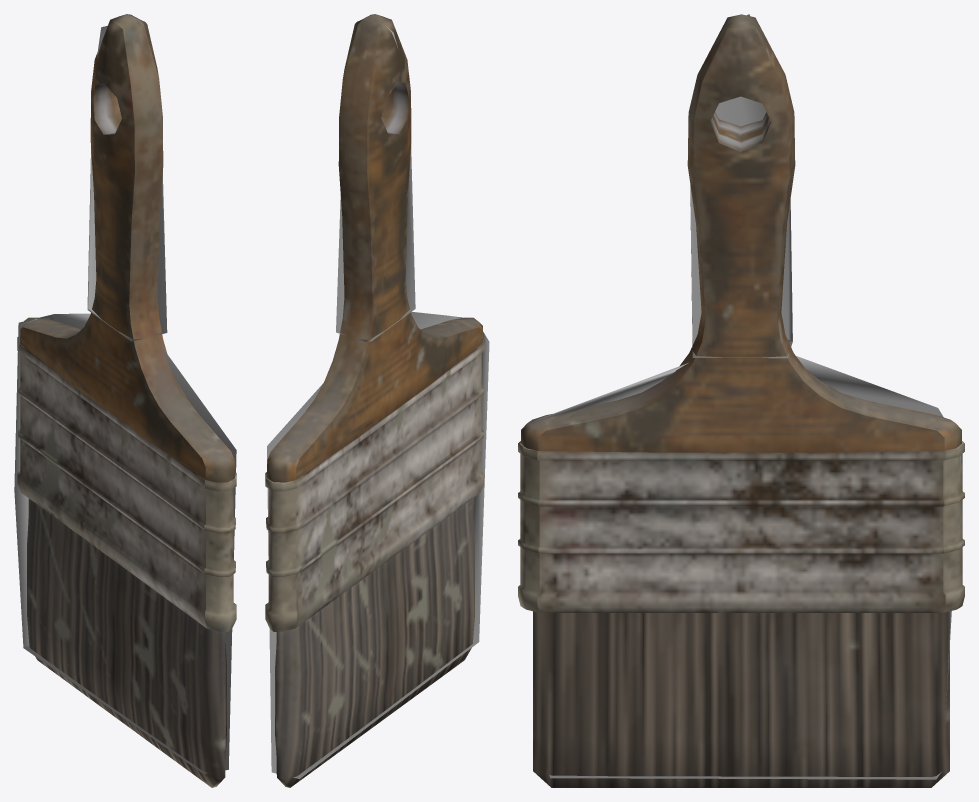
File: SM_Brush02.gltf
The picture shows the model from 3 angles, left to right: view 1: azimuth 30°, elevation 25°; view 2: azimuth 150°, elevation 25°; view 3: azimuth 270°, elevation 25°; orthographic projection. The views are drawn at different scales.
Visible parts, largest first — view 1: SM_Brush02_LOD0, SM_Brush02_ConvexHulls; view 2: SM_Brush02_LOD0, SM_Brush02_ConvexHulls; view 3: SM_Brush02_LOD0, SM_Brush02_ConvexHulls.
Boxes of the visible parts, box(x1,y1,x2,y2) form: SM_Brush02_LOD0: box(17, 14, 236, 787); SM_Brush02_ConvexHulls: box(14, 25, 236, 773); SM_Brush02_LOD0: box(265, 14, 484, 787); SM_Brush02_ConvexHulls: box(267, 26, 489, 778); SM_Brush02_LOD0: box(518, 14, 964, 787); SM_Brush02_ConvexHulls: box(535, 14, 960, 779).
Size of what is drawn, in the model's own units: 0.027 by 0.3664 by 0.1922.
